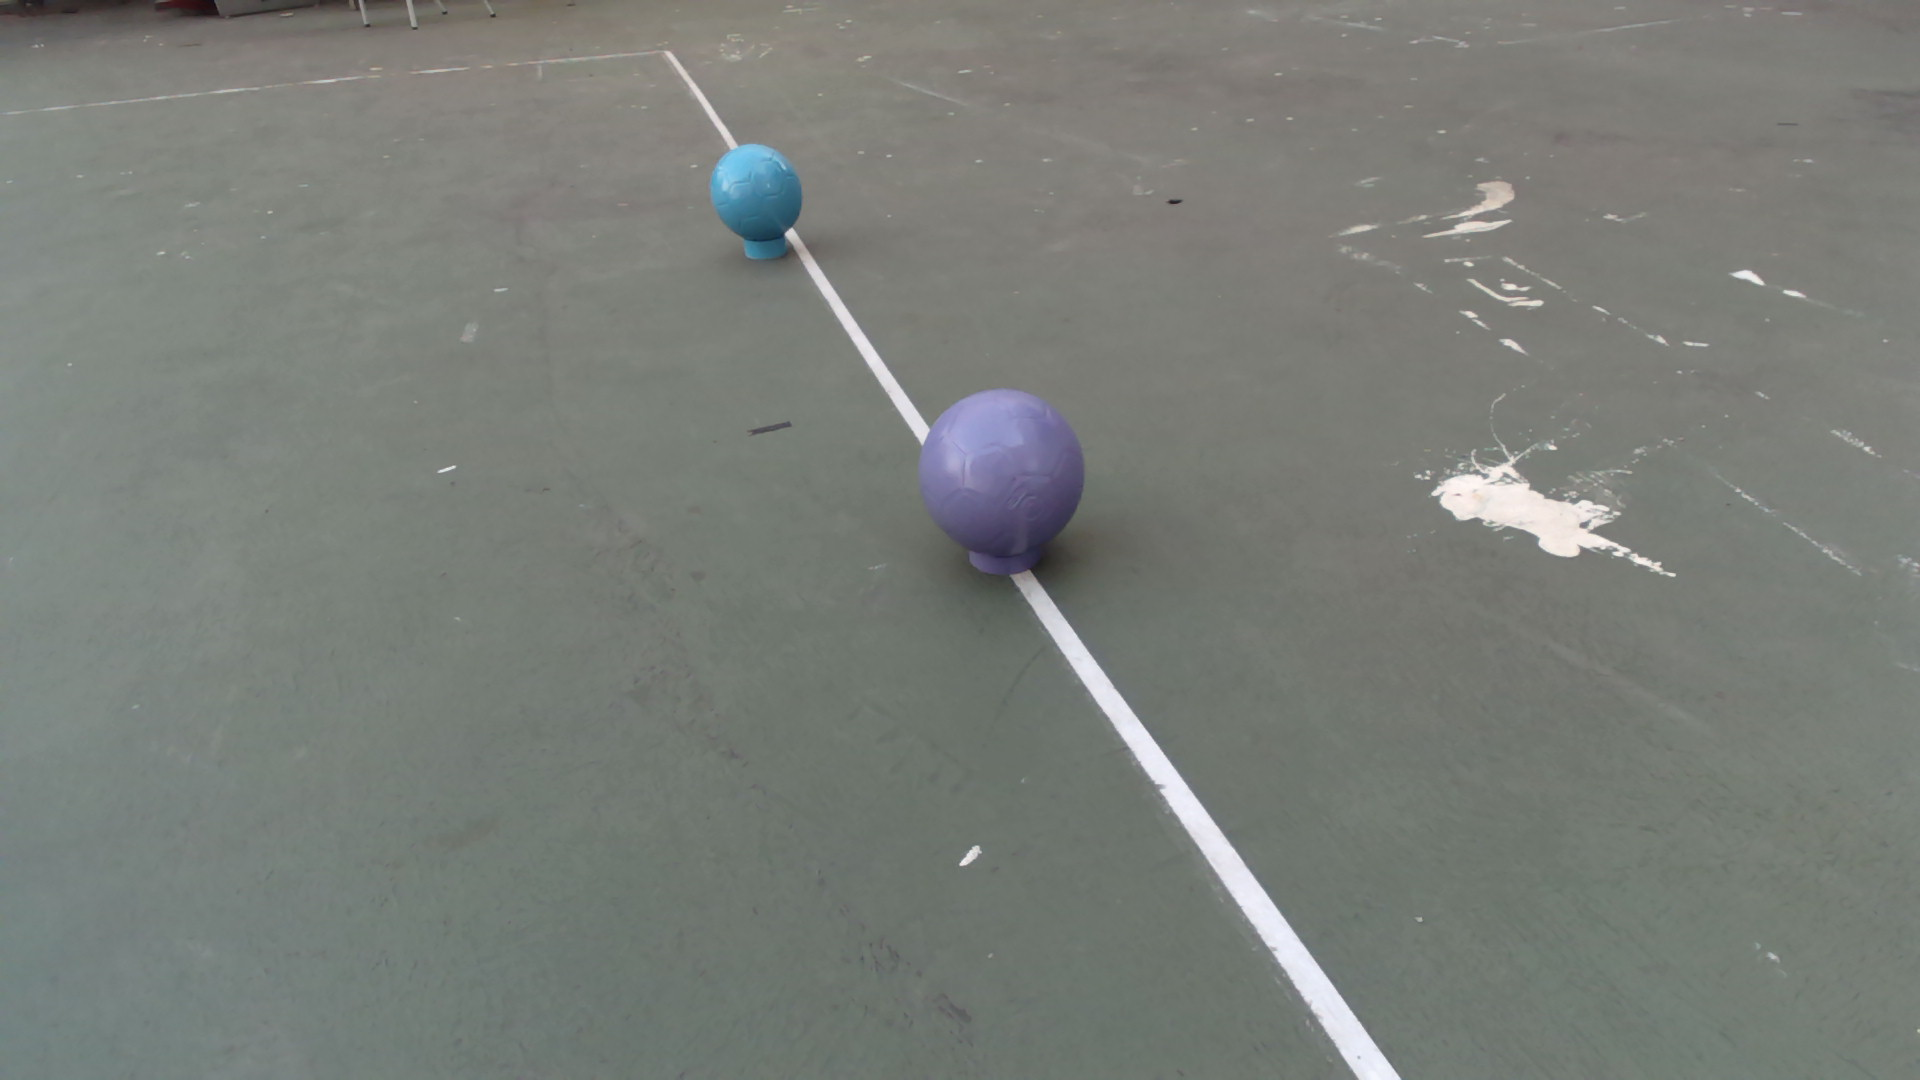Blue ball: (708, 142, 803, 243)
Purple ball: (916, 386, 1087, 559)
